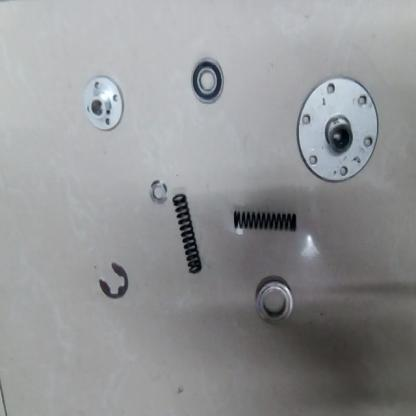FOD: (294, 73, 385, 184), (170, 190, 206, 276), (80, 74, 125, 137), (188, 51, 227, 109), (254, 279, 297, 328), (95, 257, 131, 305), (229, 210, 301, 234), (147, 178, 170, 207)
